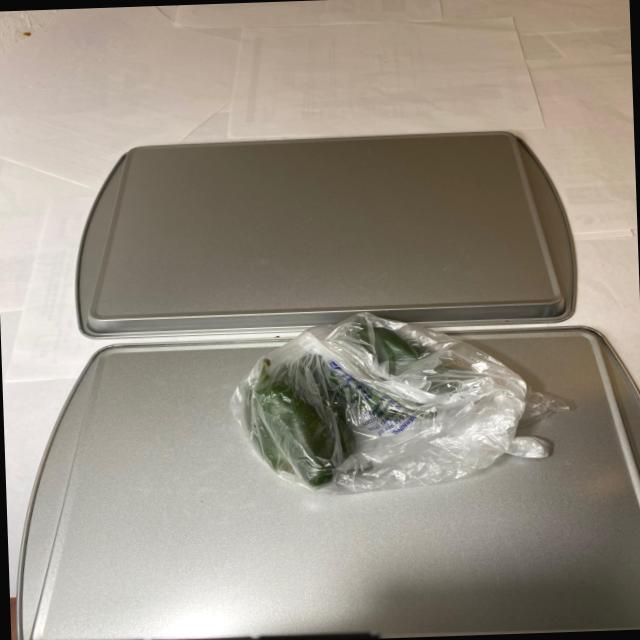chilli: (234, 315, 455, 492)
